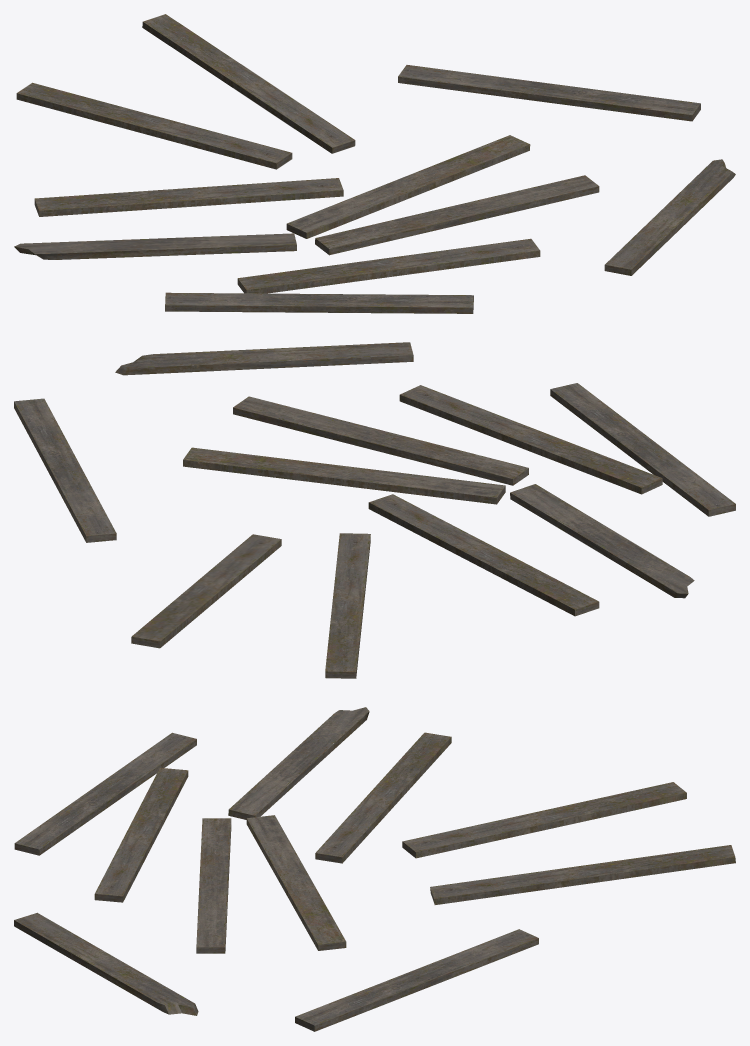
File: SM_building_roof_03.FBX
The picture shows the model from 3 angles, top to bottom: view 1: azimuth 30°, elevation 25°; view 2: azimuth 150°, elevation 25°; view 3: azimuth 270°, elevation 25°; orthographic projection. The views are drawn at different scales.
Parts seen in each view (by area): view 1: SM_building_roof_03; view 2: SM_building_roof_03; view 3: SM_building_roof_03.
Part boxes in pixels (left/top/right/bottom): SM_building_roof_03: left=14, top=14, right=735, bottom=313; SM_building_roof_03: left=14, top=342, right=735, bottom=678; SM_building_roof_03: left=14, top=707, right=735, bottom=1031.
Size of the model in its own units: 723 by 31.79 by 691.
